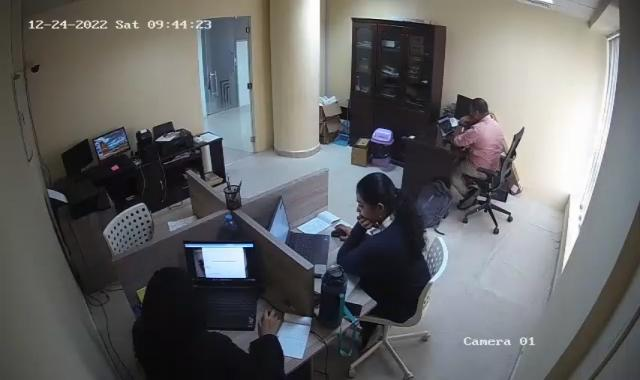no_hairnet: (145, 267, 199, 336), (354, 170, 400, 227), (468, 98, 488, 124)
